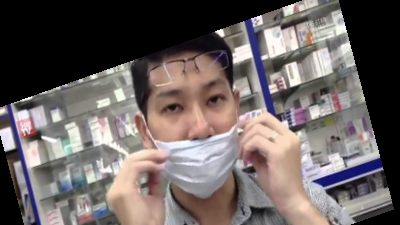mask_weared_incorrect: (123, 41, 261, 197)
